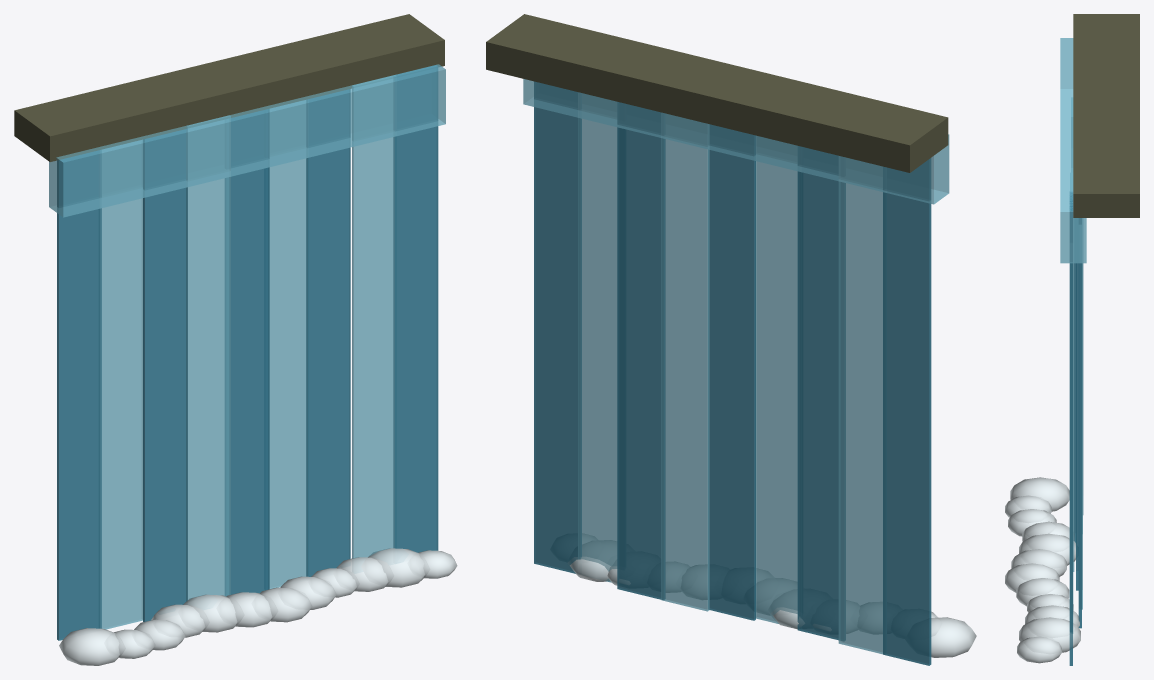
Rendered from jg_waterfall.glb.
3 views of the same model, side by side, from view 1: azimuth 30°, elevation 25°; view 2: azimuth 150°, elevation 25°; view 3: azimuth 270°, elevation 25° (orthographic). The views are drawn at different scales.
Parts seen in each view (by area): view 1: jg_waterfall; view 2: jg_waterfall; view 3: jg_waterfall.
Boxes of the visible parts, x1,y1,x2,y2 form: jg_waterfall: (14, 14, 457, 665); jg_waterfall: (486, 14, 976, 665); jg_waterfall: (1005, 14, 1139, 665).
Bounding box in the file's own units: 6.47 × 8.02 × 2.03.
